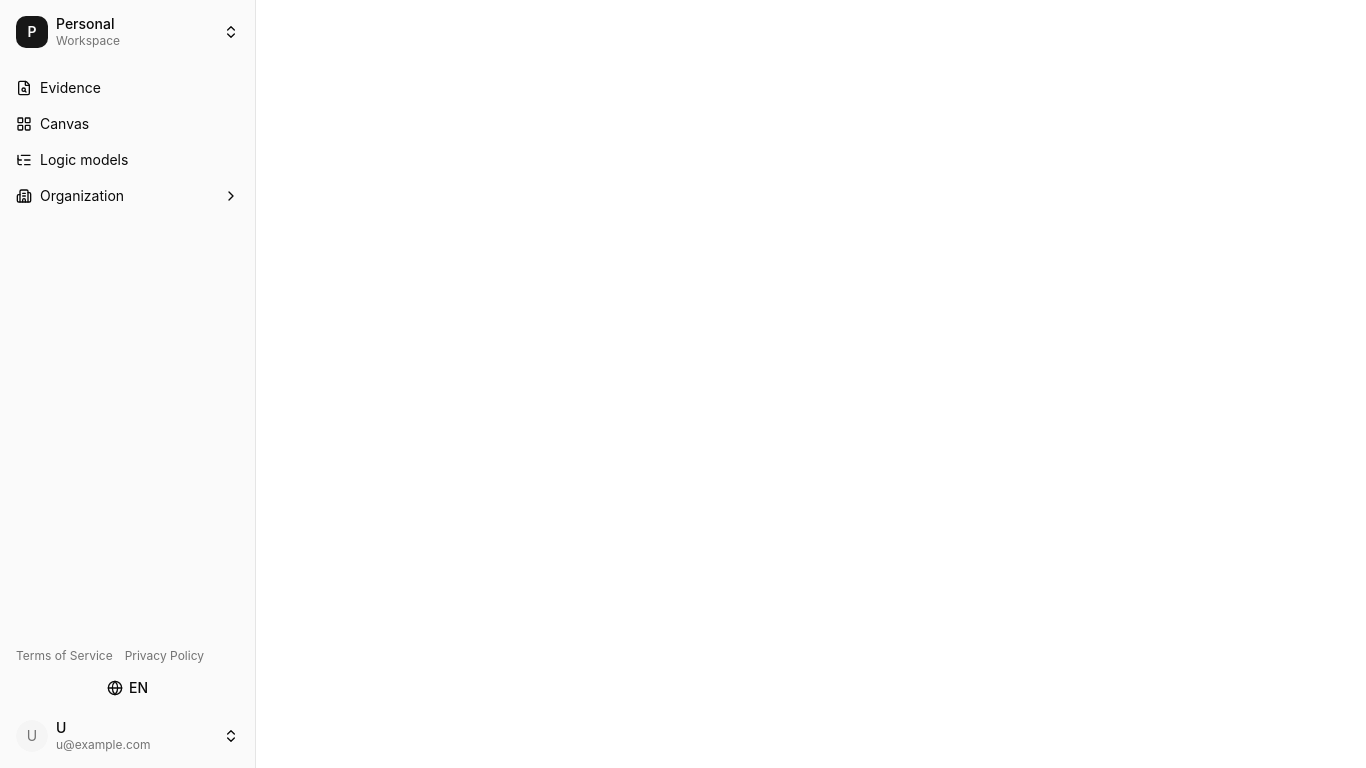
Test: AppSidebar › offers to create a workspace from the switcher
The width and height of the screenshot is (1366, 768).
Press Enter in the button "P Personal Workspace", box x1=8 y1=8 x2=247 y2=56
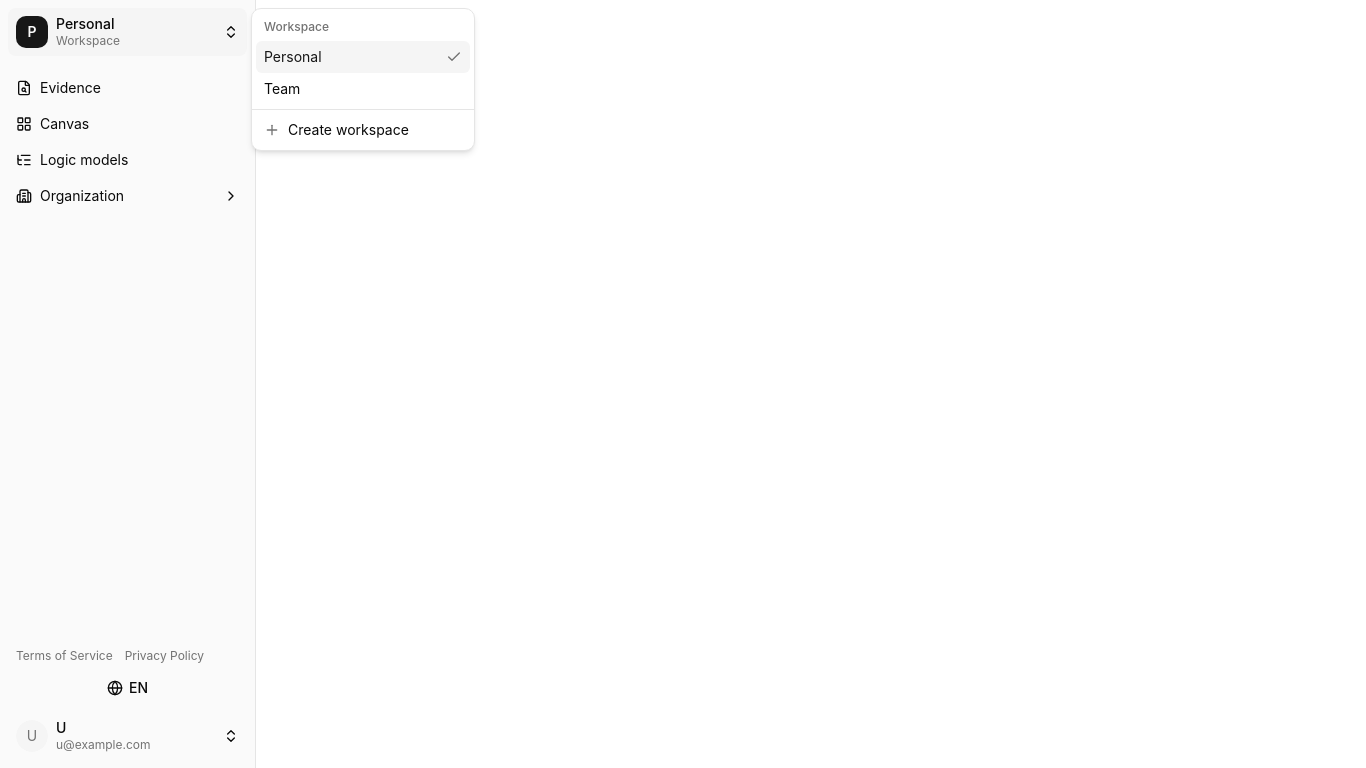
Click the menu item "Create workspace" at point(336, 130), box x1=264 y1=121 x2=409 y2=138
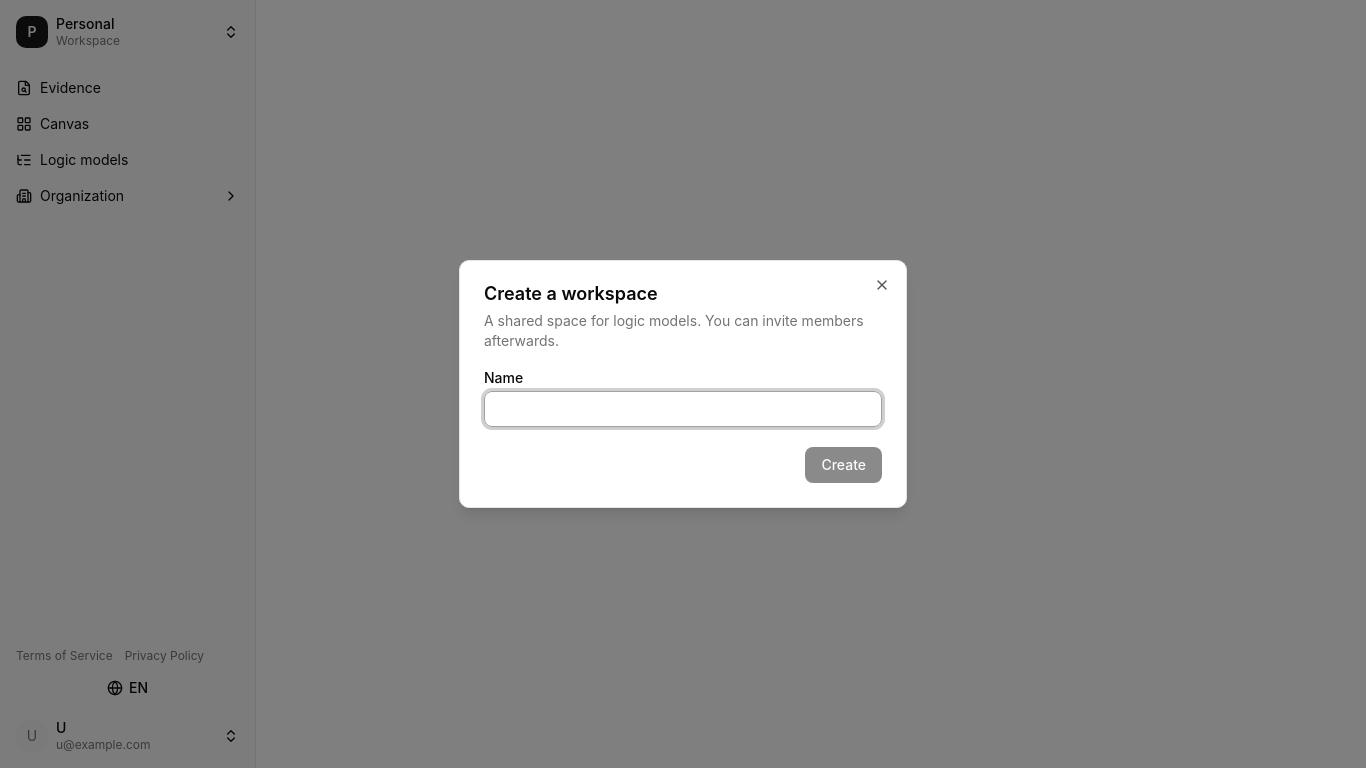
Now the dialog "Create a workspace" is shown, box x1=459 y1=260 x2=907 y2=508
